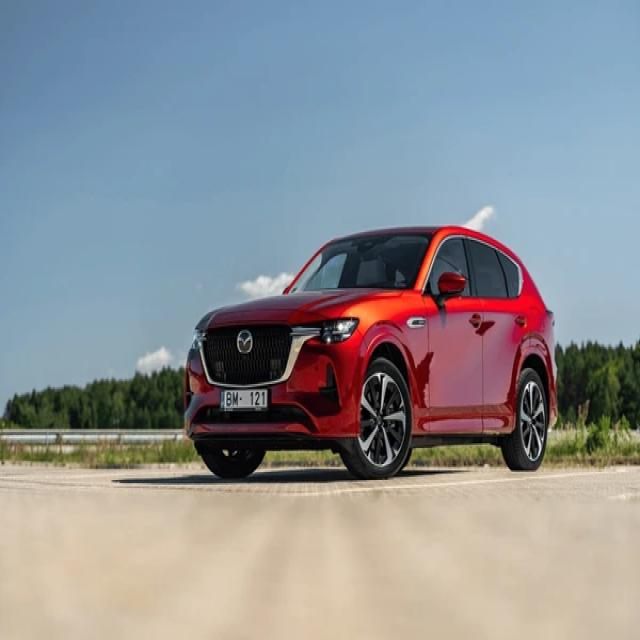mazda: (236, 329, 254, 355)
